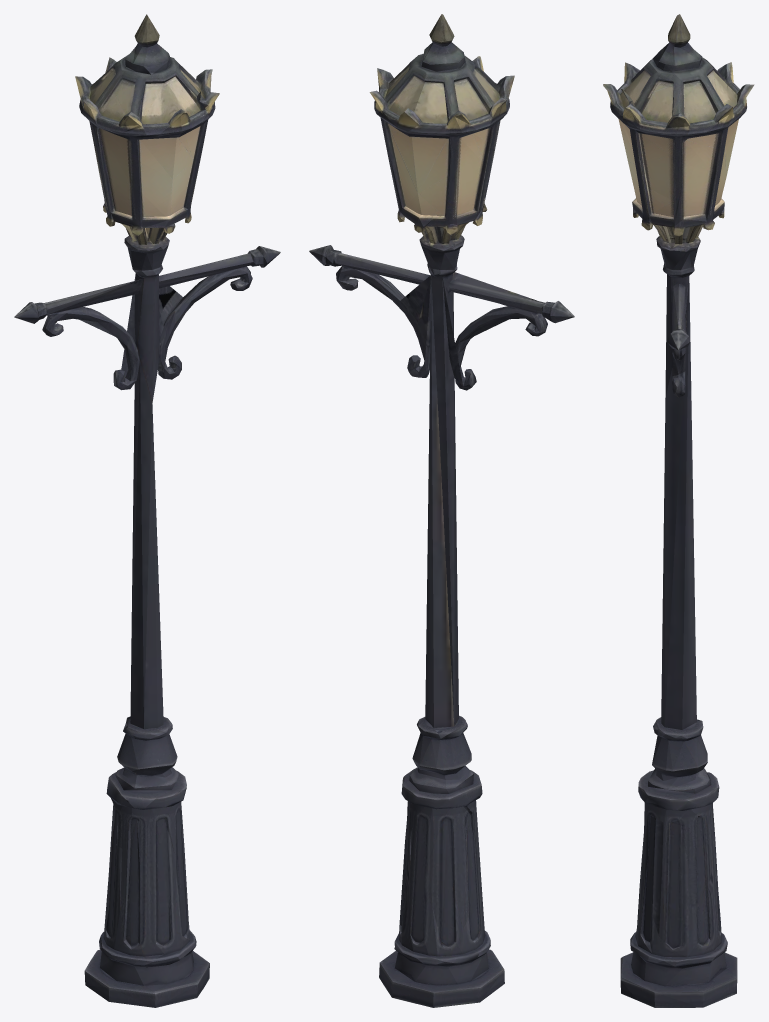
The model's file is prop_streetlamp_a_v001.glb.
3 views of the same model, side by side, from view 1: azimuth 30°, elevation 25°; view 2: azimuth 150°, elevation 25°; view 3: azimuth 270°, elevation 25° (orthographic).
Parts seen in each view (by area): view 1: output_unwrapped; view 2: output_unwrapped; view 3: output_unwrapped.
Part boxes in pixels (x1=…): output_unwrapped: x1=14, y1=14, x2=280, y2=1007; output_unwrapped: x1=309, y1=14, x2=574, y2=1007; output_unwrapped: x1=603, y1=14, x2=754, y2=1007.
Bounding box in the file's own units: 1.29 × 4.5 × 0.6361.
1 material, 1 textured.
